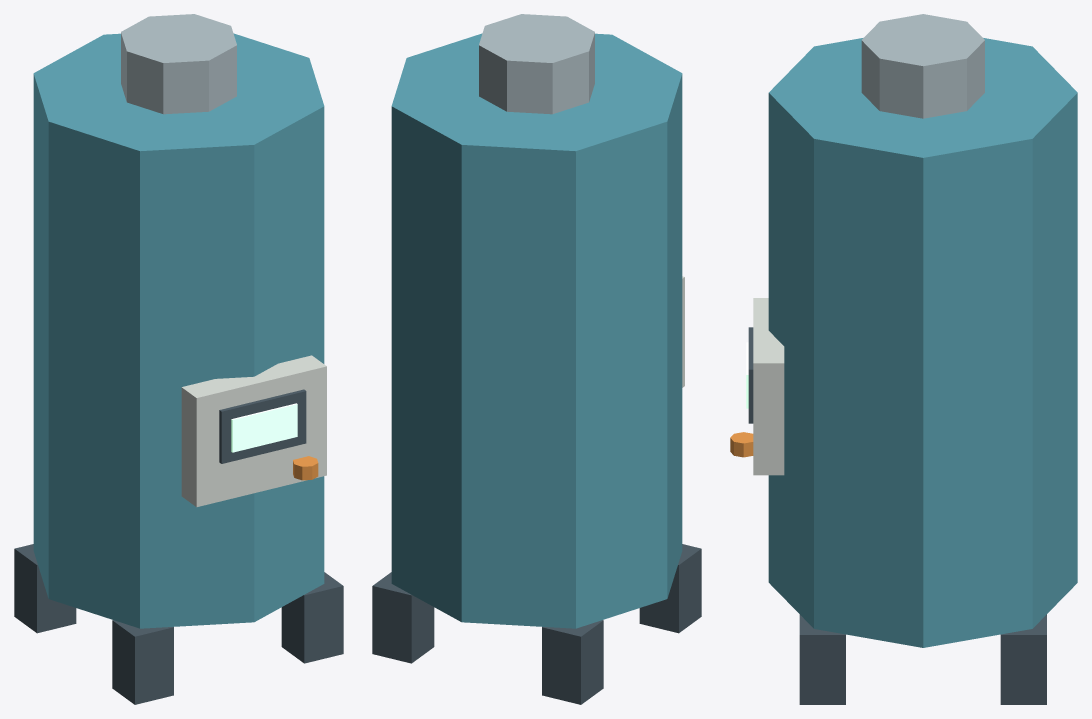
Rendered from pressure-accumulator.glb.
The picture shows the model from 3 angles, left to right: view 1: azimuth 30°, elevation 25°; view 2: azimuth 150°, elevation 25°; view 3: azimuth 270°, elevation 25°; orthographic projection. The views are drawn at different scales.
Parts seen in each view (by area): view 1: blue, dark, cream, steel, light, orange; view 2: blue, dark, steel; view 3: blue, steel, dark, cream, orange.
Part boxes in pixels (left/top/right/bottom): blue: left=33, top=33, right=324, bottom=628; dark: left=14, top=389, right=343, bottom=704; cream: left=181, top=355, right=326, bottom=507; steel: left=121, top=14, right=236, bottom=114; light: left=231, top=403, right=297, bottom=452; orange: left=293, top=456, right=318, bottom=480; blue: left=391, top=33, right=682, bottom=628; dark: left=372, top=544, right=701, bottom=704; steel: left=479, top=14, right=594, bottom=114; blue: left=768, top=38, right=1077, bottom=647; steel: left=861, top=14, right=984, bottom=118; dark: left=748, top=327, right=1046, bottom=704; cream: left=753, top=298, right=784, bottom=475; orange: left=730, top=432, right=753, bottom=457.
Bounding box in the file's own units: 0.8001 × 1.75 × 0.9.
